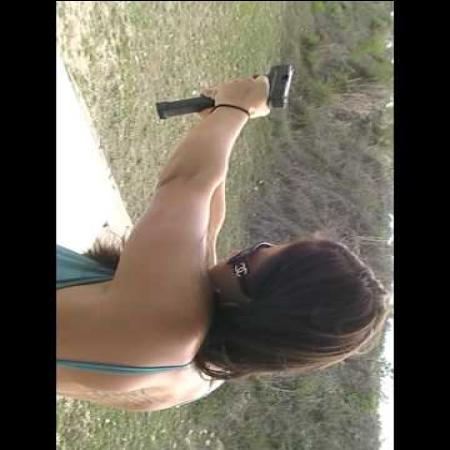Pistol: (205, 61, 295, 111)
